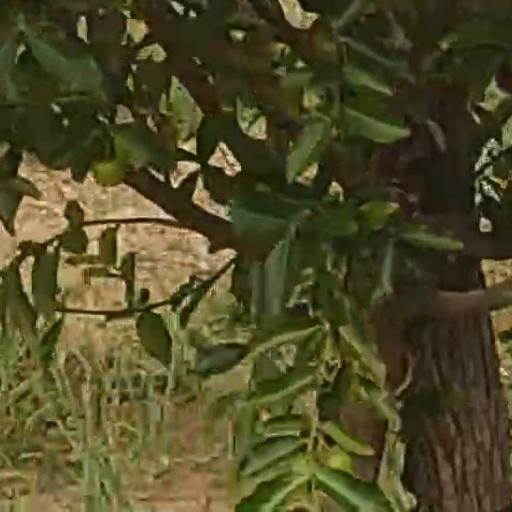acerola: (113, 125, 156, 165), (91, 162, 124, 185)
